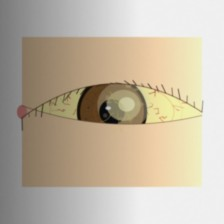corneal_ulcer: (96, 83, 151, 127)
